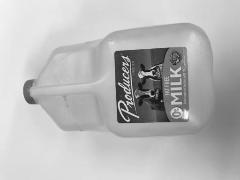plastic: (6, 25, 240, 151)
